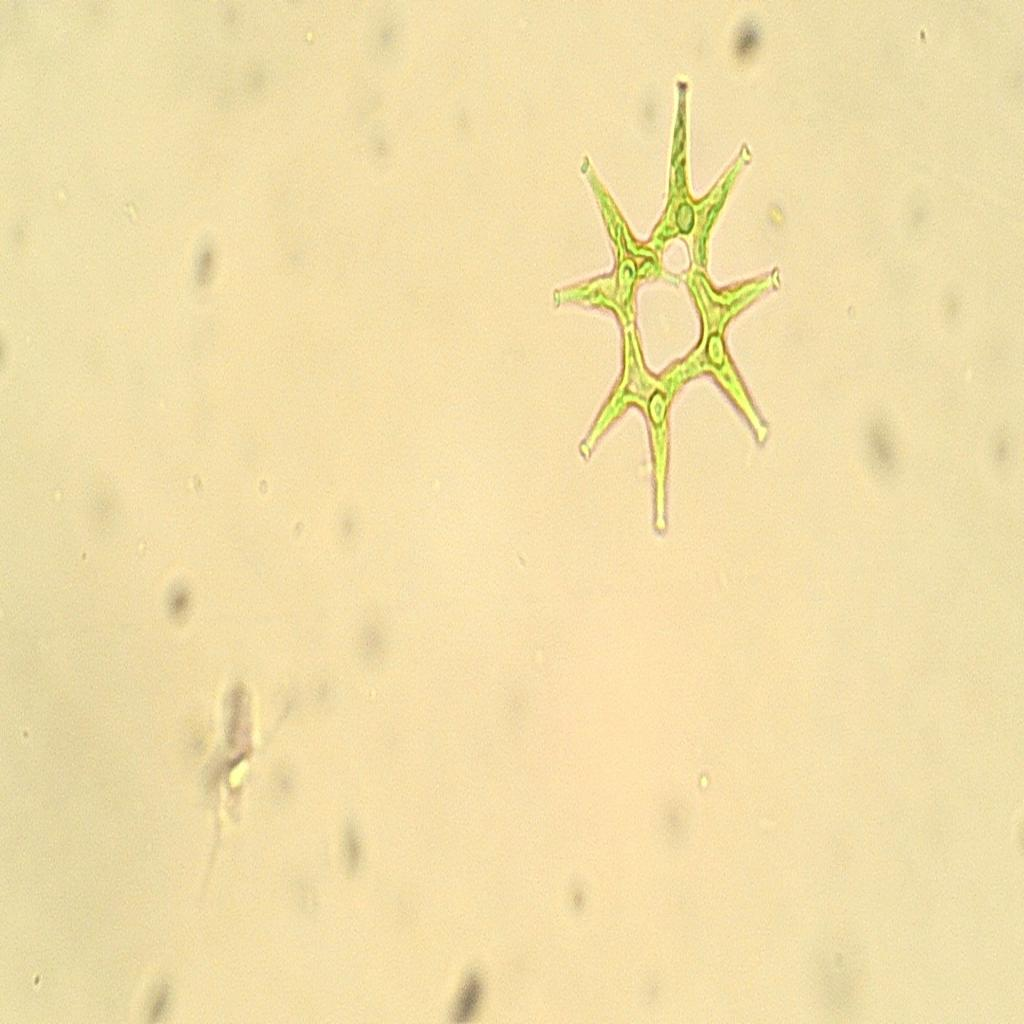Pediastrum_CF: (536, 66, 788, 552)
